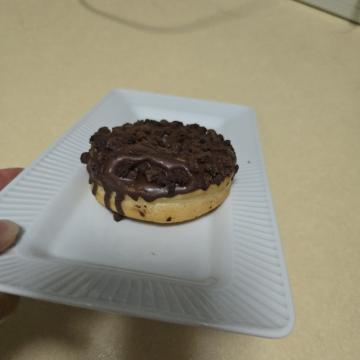doughnut: (99, 112, 240, 298)
